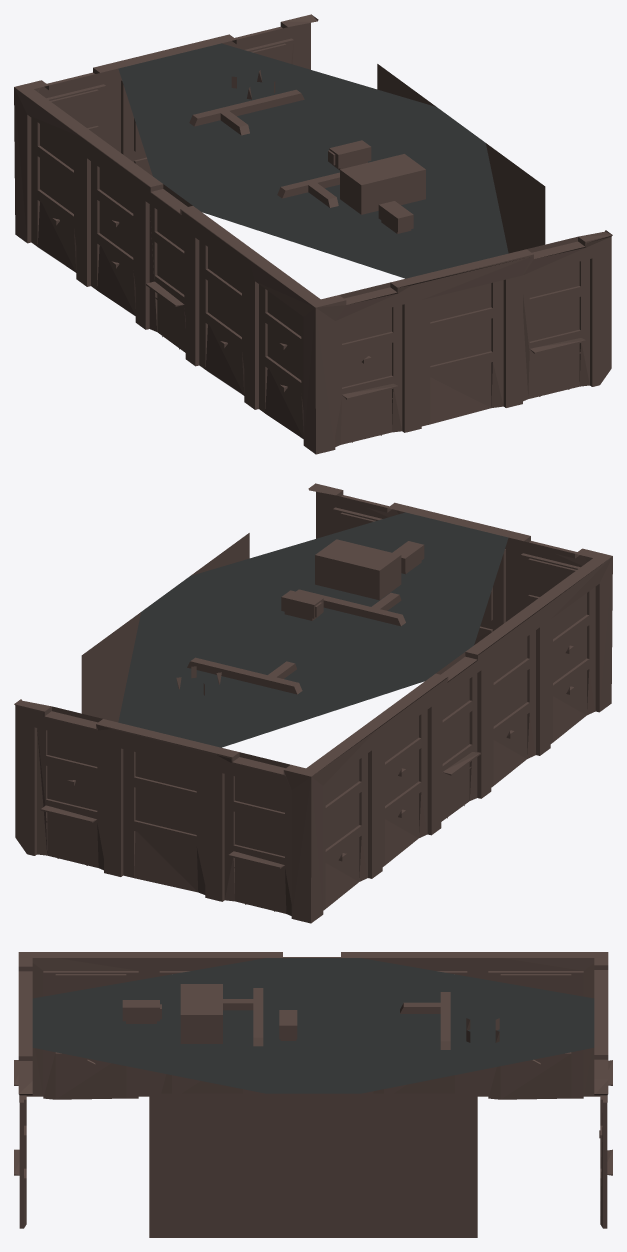
File: ind-building-1.lod2.glb
3 views of the same model, one above another, from view 1: azimuth 30°, elevation 25°; view 2: azimuth 150°, elevation 25°; view 3: azimuth 270°, elevation 25° (orthographic). The views are drawn at different scales.
Parts seen in each view (by area): view 1: Industrial_Building_1_Industrial_Facade_Flr_1_0; view 2: Industrial_Building_1_Industrial_Facade_Flr_1_0; view 3: Industrial_Building_1_Industrial_Facade_Flr_1_0.
Boxes of the visible parts, left/top/right/bottom form: Industrial_Building_1_Industrial_Facade_Flr_1_0: left=14, top=14, right=612, bottom=454; Industrial_Building_1_Industrial_Facade_Flr_1_0: left=14, top=483, right=612, bottom=923; Industrial_Building_1_Industrial_Facade_Flr_1_0: left=14, top=952, right=612, bottom=1237.
Bounding box in the file's own units: 27.02 × 15.22 × 47.54.
